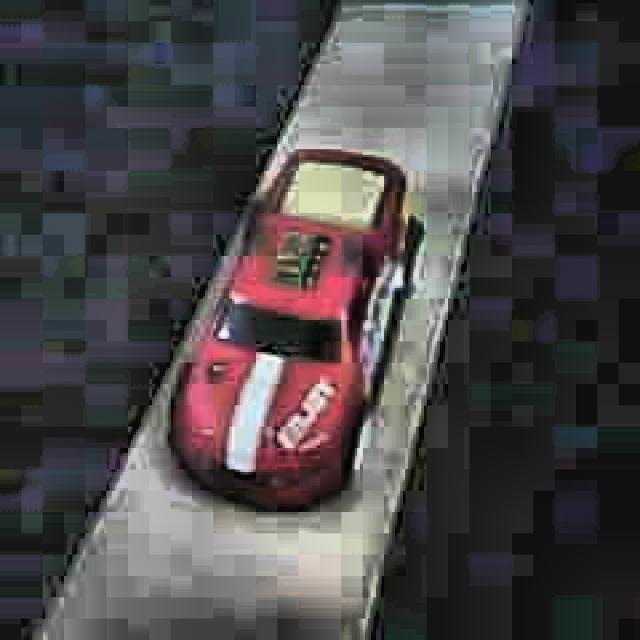car: (162, 145, 425, 518)
